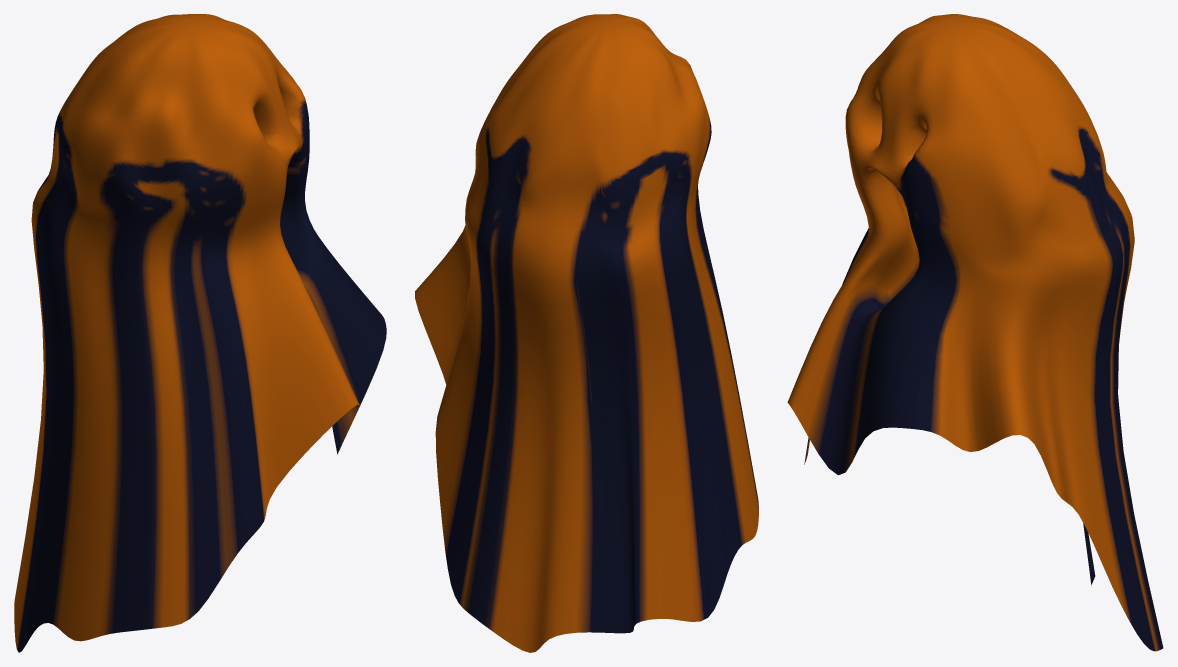
The model's file is ghost.glb.
3 views of the same model, side by side, from view 1: azimuth 30°, elevation 25°; view 2: azimuth 150°, elevation 25°; view 3: azimuth 270°, elevation 25° (orthographic). The views are drawn at different scales.
Visible parts, largest first — view 1: 球体; view 2: 球体; view 3: 球体.
Part boxes in pixels (x1=…): 球体: x1=14, y1=14, x2=386, y2=652; 球体: x1=415, y1=14, x2=758, y2=652; 球体: x1=787, y1=14, x2=1163, y2=651.
Size of the model in its own units: 8.63 by 15.91 by 8.58.
1 material, 1 textured.
